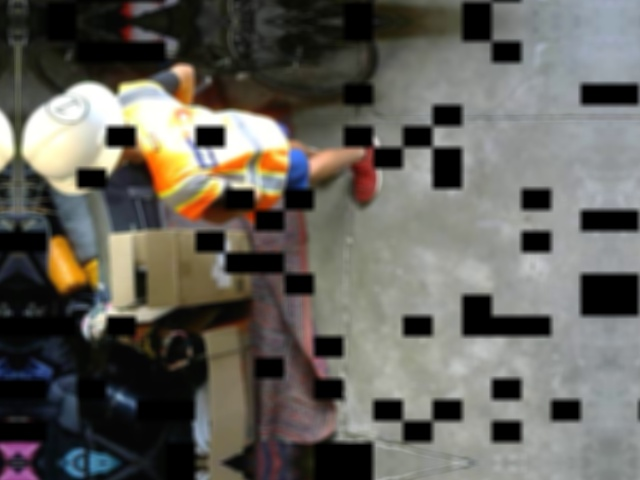one: (46, 92, 87, 121)
